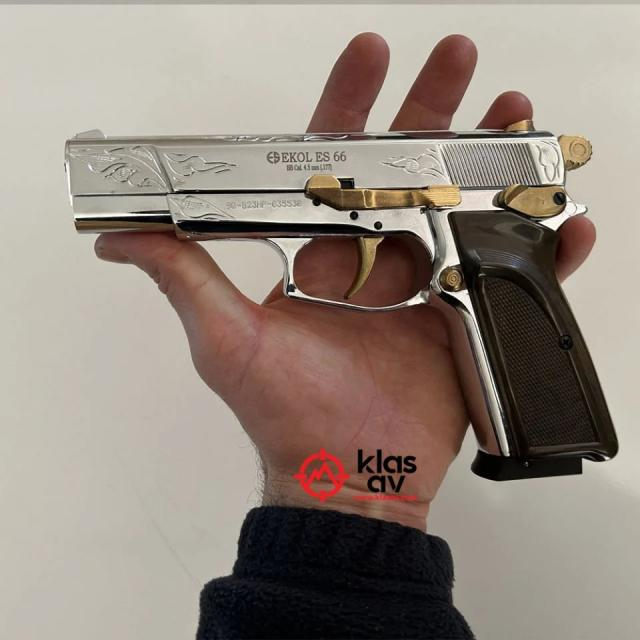pistol: (48, 111, 625, 487)
